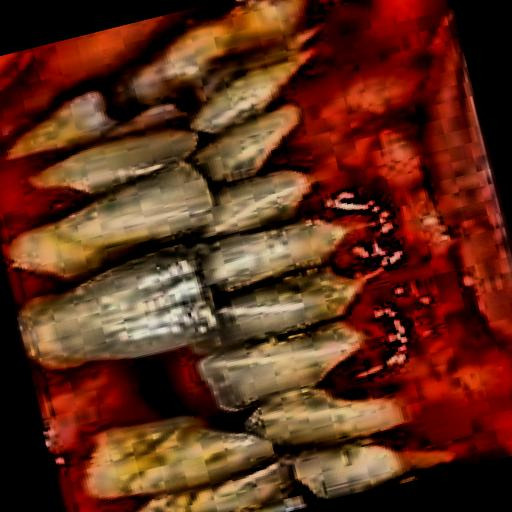Gingivitis: (259, 0, 512, 483)
